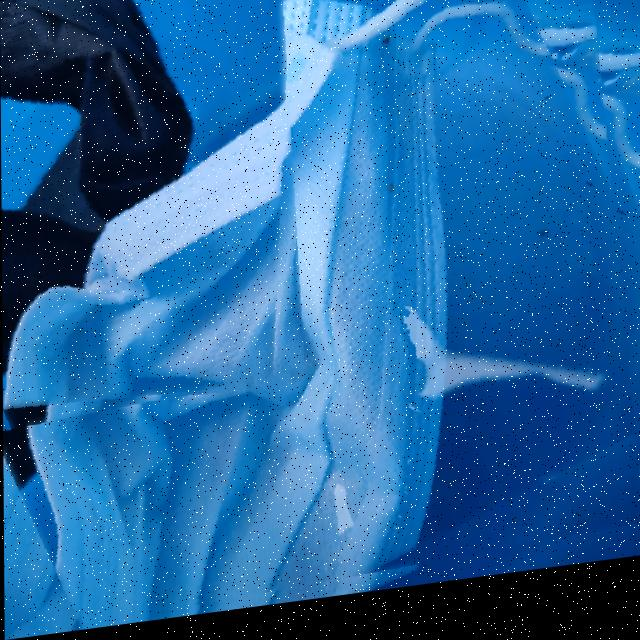litter: (0, 0, 640, 640), (0, 0, 305, 430)
